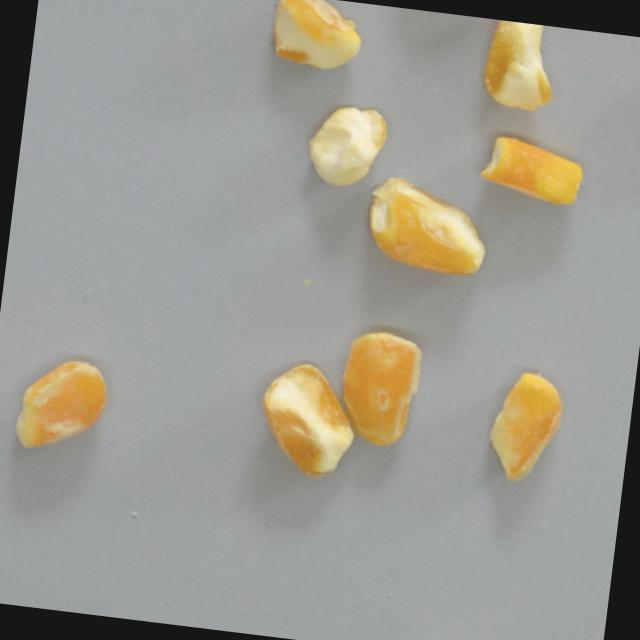estandar: (303, 100, 389, 192)
pelicula: (361, 174, 493, 279), (253, 360, 362, 483), (334, 328, 426, 452), (10, 354, 114, 460), (483, 367, 568, 488), (478, 134, 587, 209), (263, 0, 366, 76), (480, 19, 561, 114)
